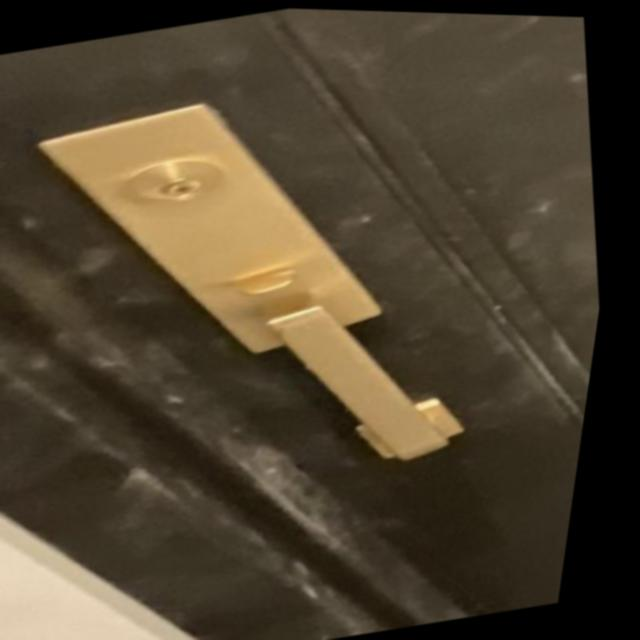door_handle: (223, 257, 529, 498)
